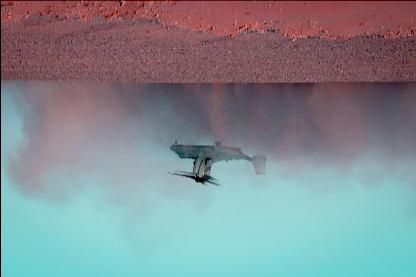Tornado: (166, 140, 266, 186)
